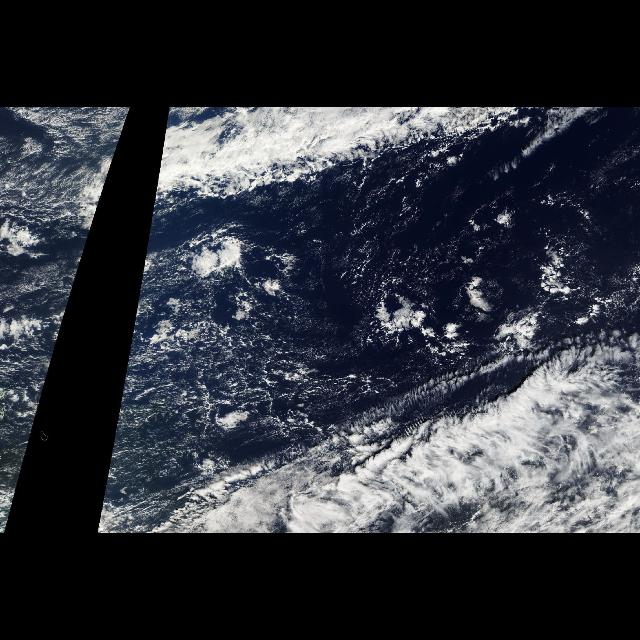Fish: (249, 329, 636, 533), (149, 110, 526, 230), (4, 110, 130, 230)
Flower: (347, 258, 589, 378)
Gravel: (100, 214, 330, 518), (0, 262, 80, 518)
Sugar: (106, 206, 600, 477), (1, 311, 67, 477)
